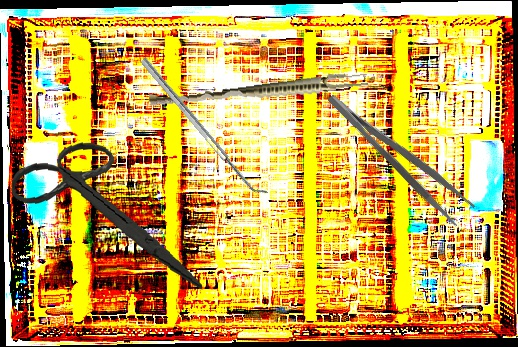Dressing Forceps: (323, 80, 477, 229)
Iris Scissors: (4, 134, 214, 292)
Spatula Surgical: (140, 52, 268, 202)
Tissue Forceps: (148, 67, 369, 115)
